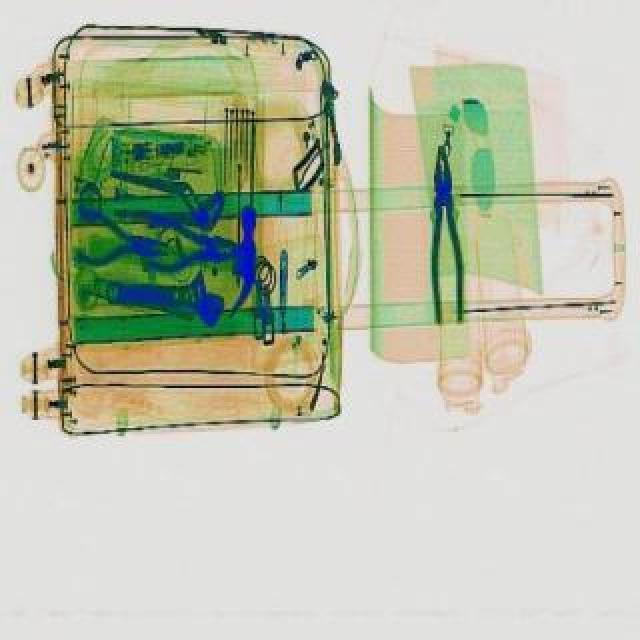scissors: (106, 262, 230, 326)
wrench: (424, 142, 468, 322), (72, 206, 176, 274), (148, 212, 244, 272)
